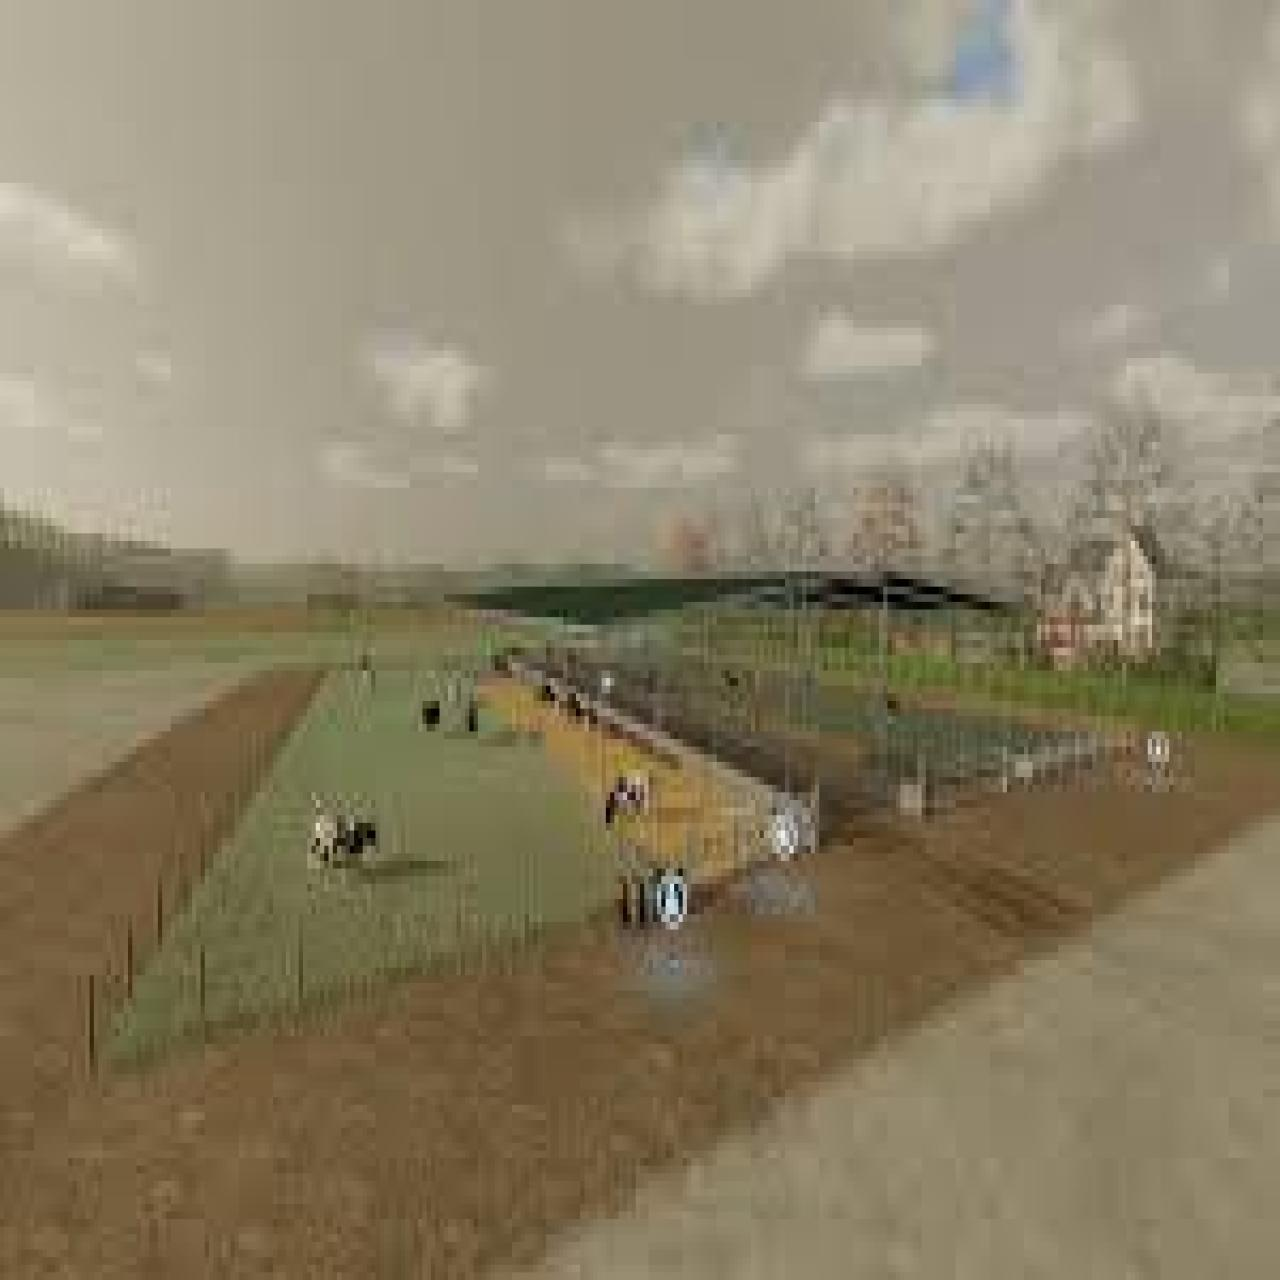cow: (312, 808, 380, 884), (601, 770, 648, 838)
